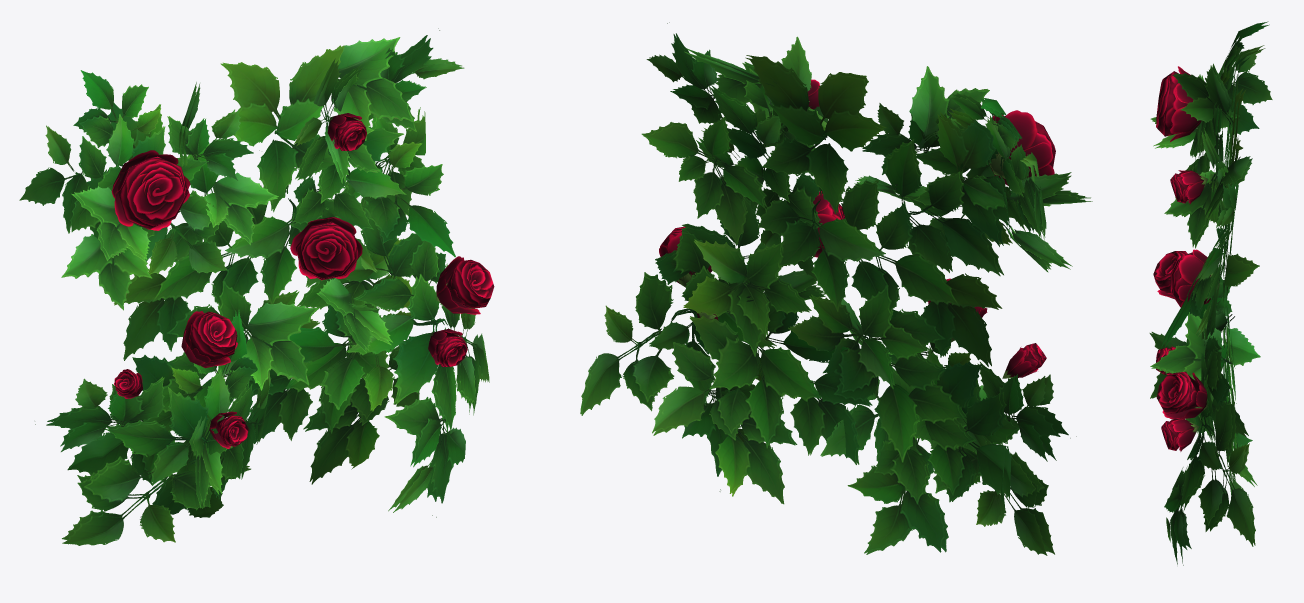
Rendered from SE_Rose_13.fbx.
3 renders of one model, left to right at view 1: azimuth 30°, elevation 25°; view 2: azimuth 150°, elevation 25°; view 3: azimuth 270°, elevation 25°, orthographic. The views are drawn at different scales.
Visible parts, largest first — view 1: SE_Rose_13; view 2: SE_Rose_13; view 3: SE_Rose_13.
Part boxes in pixels (x1=…): SE_Rose_13: x1=19, y1=28, x2=494, y2=545; SE_Rose_13: x1=580, y1=22, x2=1092, y2=555; SE_Rose_13: x1=1149, y1=21, x2=1272, y2=565.
Size of the model in its own units: 5.5 by 5.64 by 1.69.
